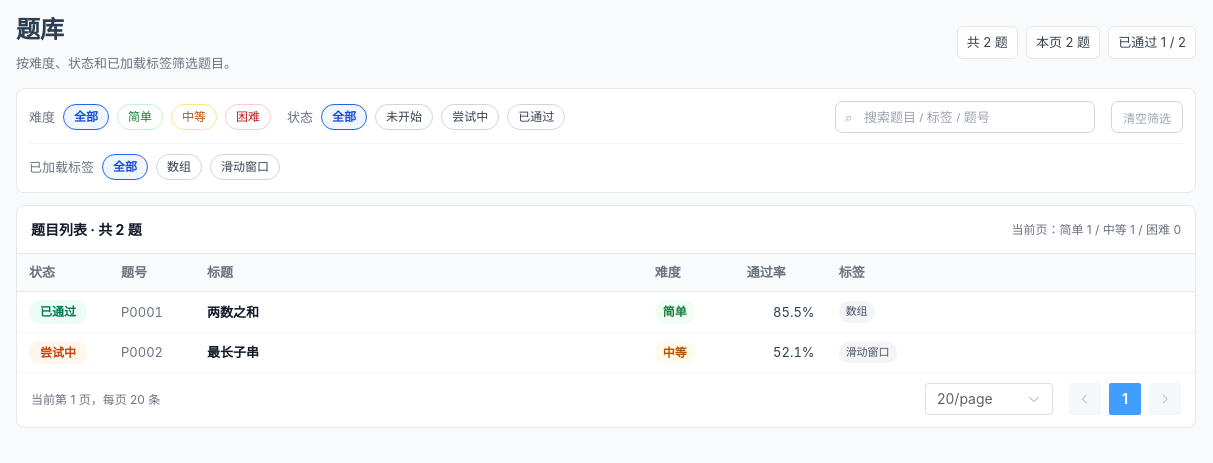
Test: ProblemSetView filters › resets difficulty status tag and keyword from the clear filters button
Click the button with class "chip--easy" at (140, 117), box [117, 104, 163, 130]
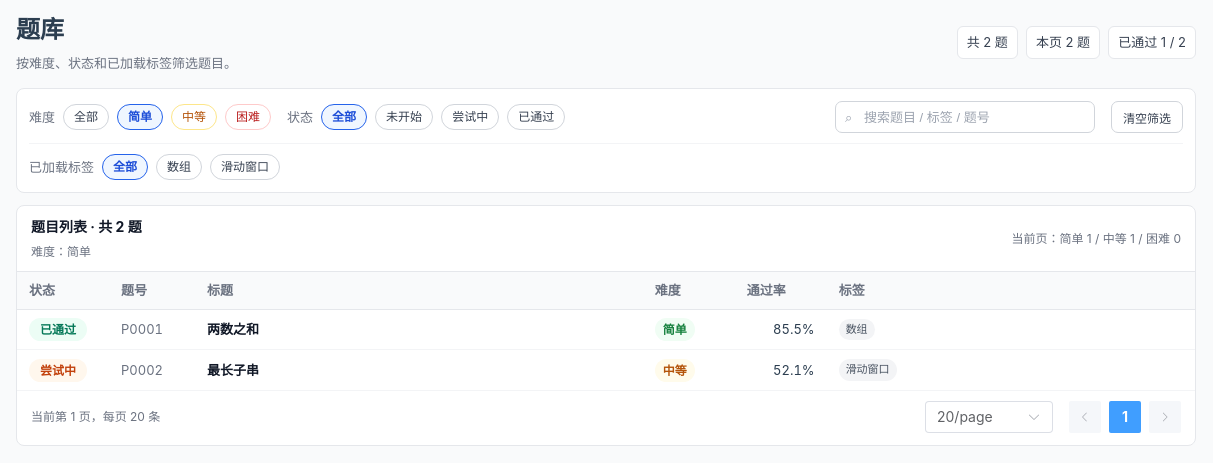
Click the button "已通过" at (536, 117), box [507, 104, 565, 130]
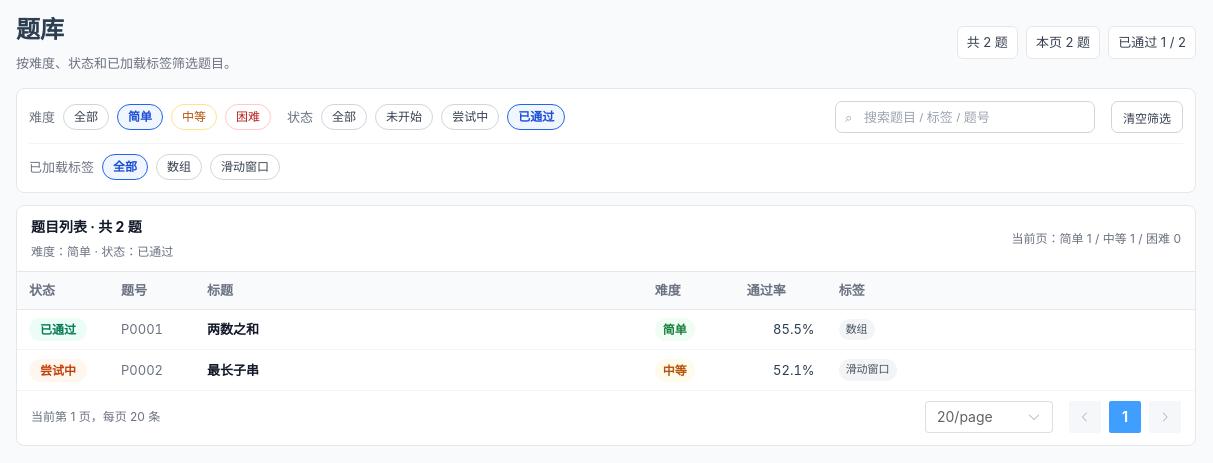
Click the button "数组" at (179, 167), box [156, 154, 202, 180]
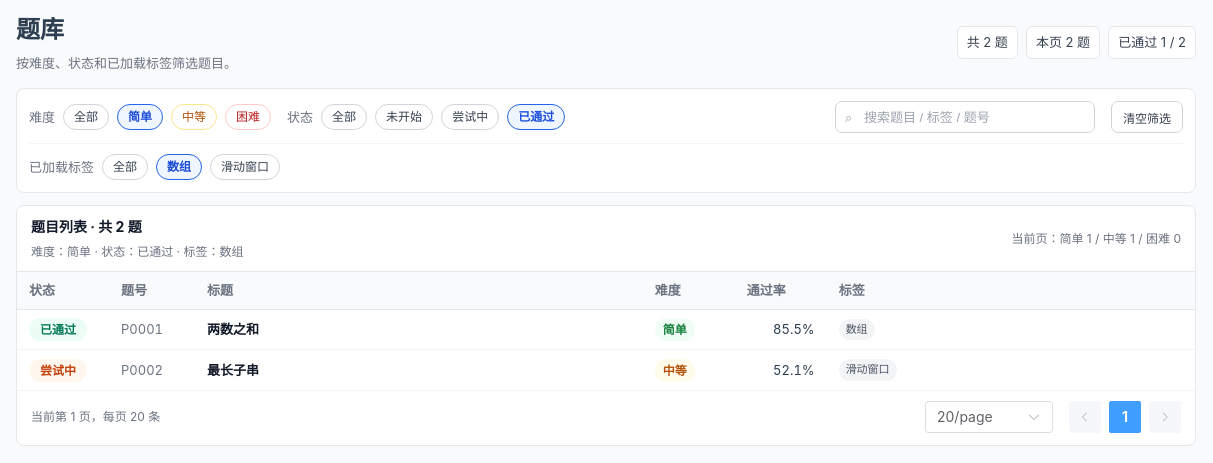
Type "abc" into the field with test id "problem-search-input" at (965, 117), box [835, 101, 1095, 133]
Wait 350 ms
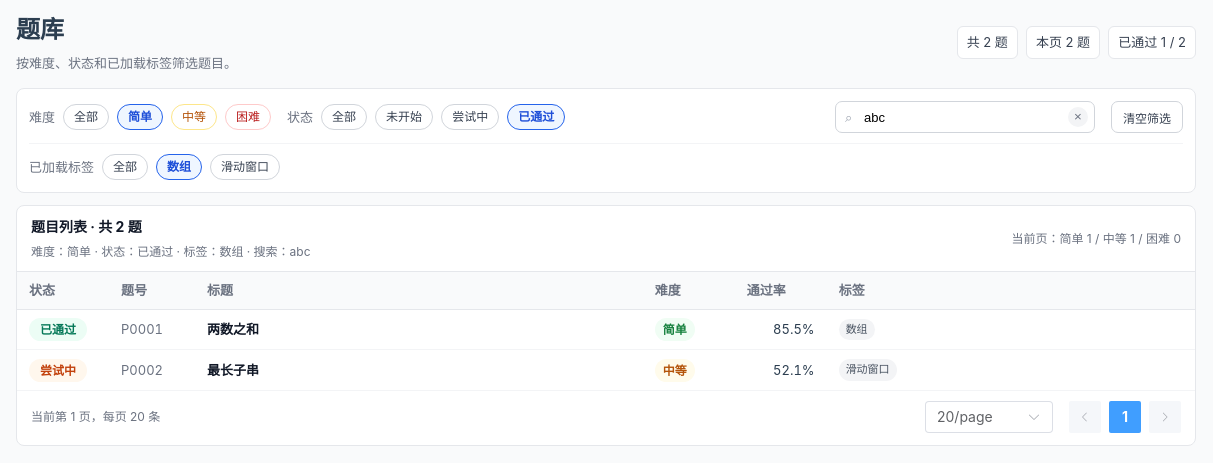
Click the button with test id "clear-filters-button" at (1147, 117), box [1111, 101, 1183, 133]
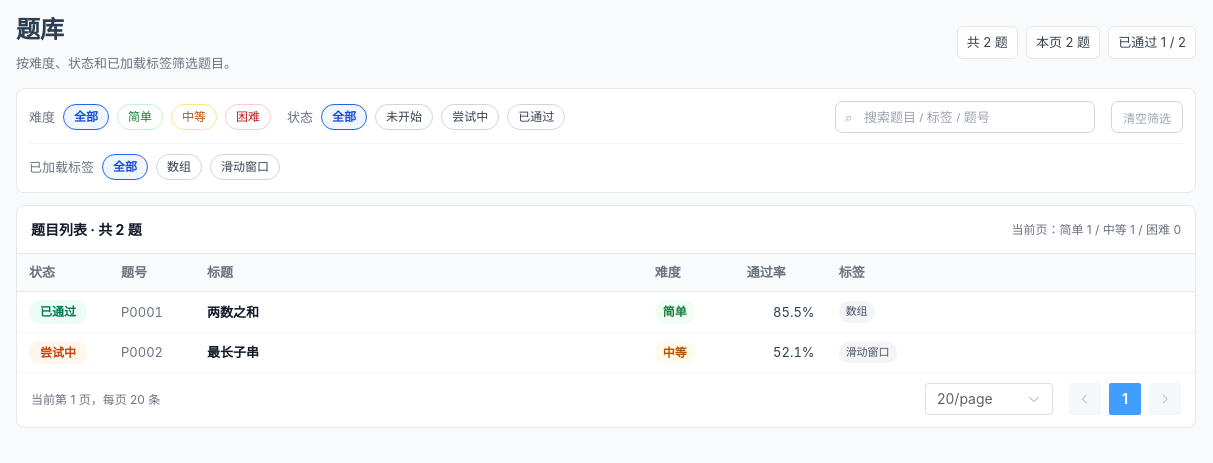
expect the field with test id "problem-search-input" is empty: met, box [835, 101, 1095, 133]
